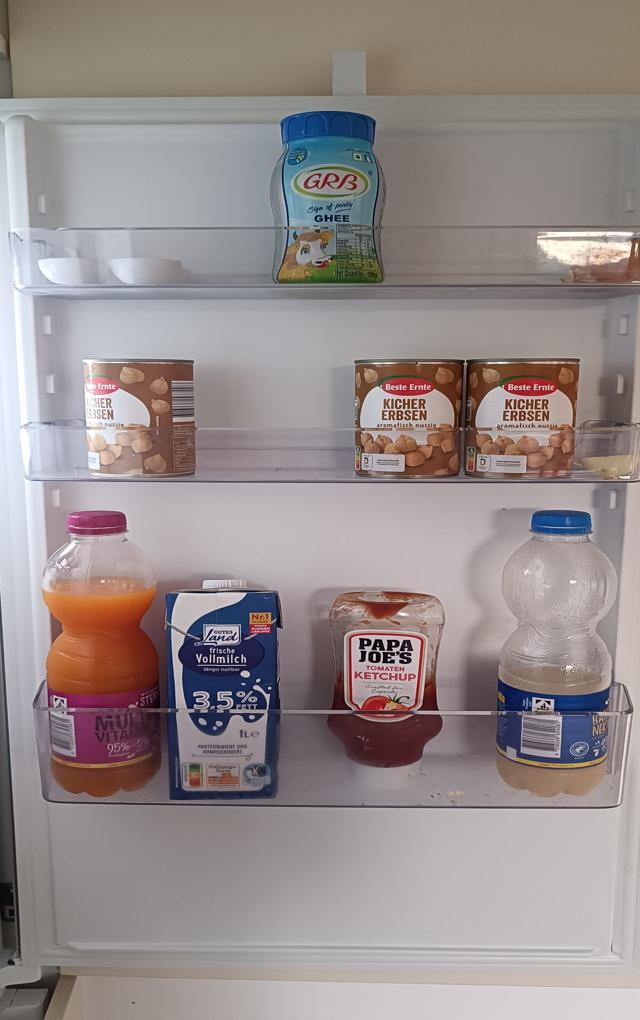bananajuice: (500, 509, 621, 792)
chickpeas: (82, 358, 198, 479), (355, 358, 464, 482), (469, 355, 578, 478)
ghee: (270, 107, 393, 288)
milk: (167, 580, 284, 802)
orangejuice: (43, 510, 162, 797)
tomatoketchup: (329, 588, 444, 788)
